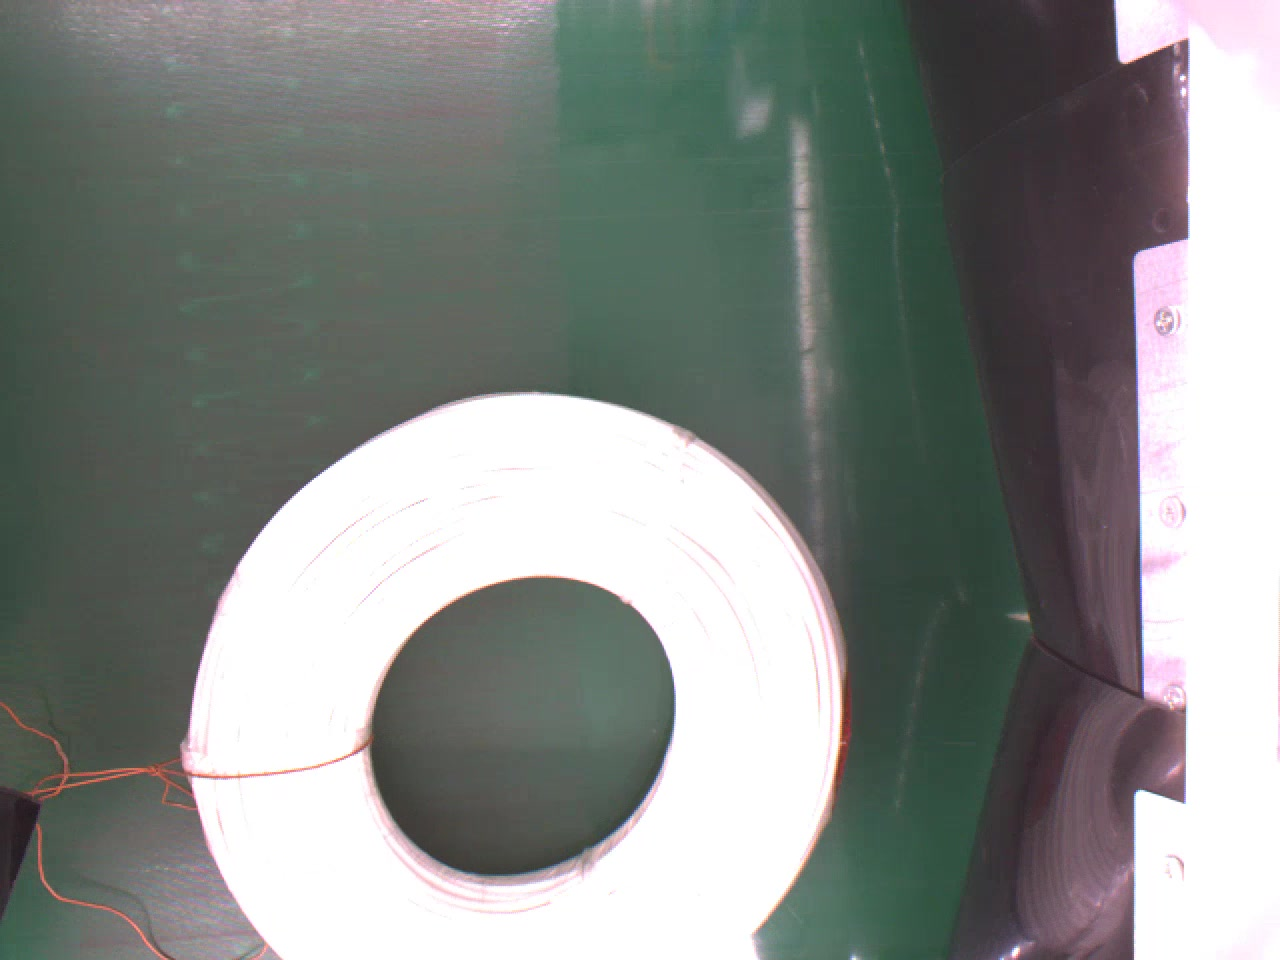white: (179, 384, 855, 960)
